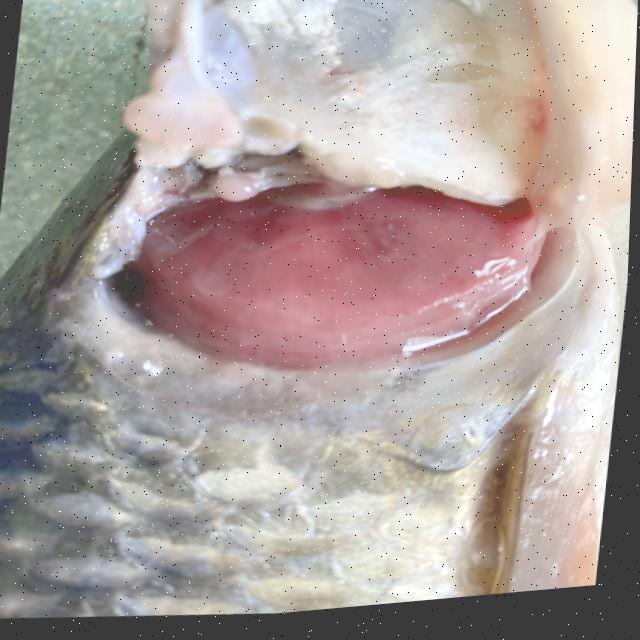Fresh: (69, 122, 566, 408)
